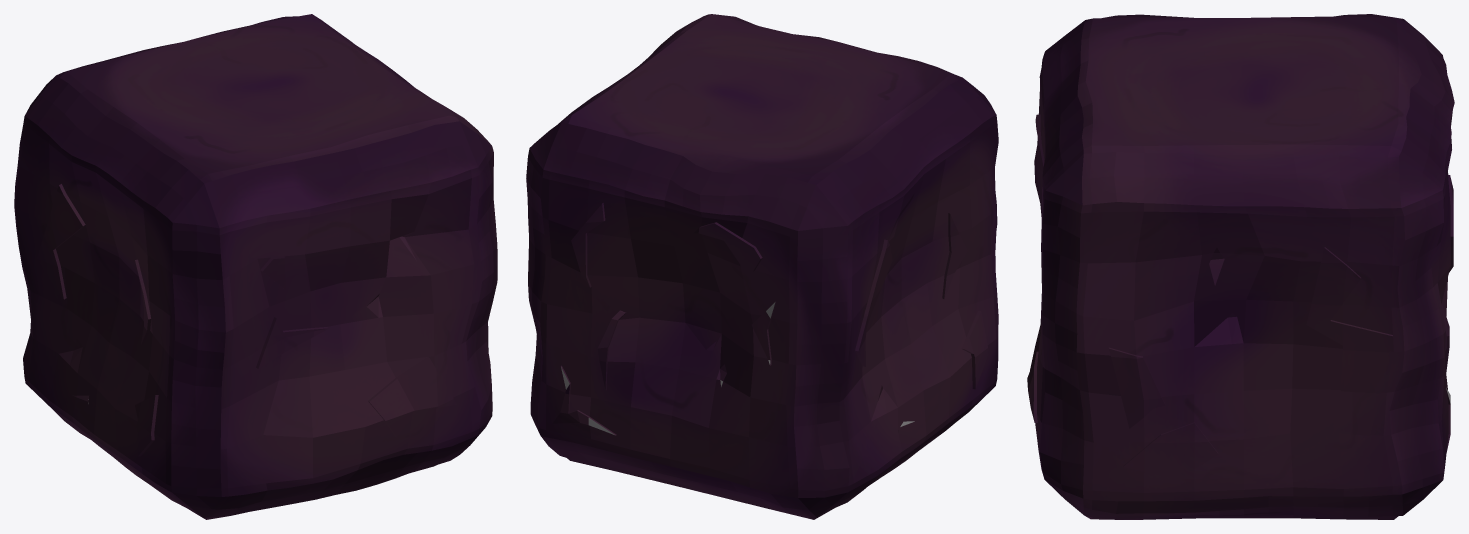
File: boulder.fbx
3 renders of one model, left to right at view 1: azimuth 30°, elevation 25°; view 2: azimuth 150°, elevation 25°; view 3: azimuth 270°, elevation 25°, orthographic. The views are drawn at different scales.
Visible parts, largest first — view 1: Cube; view 2: Cube; view 3: Cube.
Boxes of the visible parts, x1,y1,x2,y2 form: Cube: [14, 14, 497, 519]; Cube: [526, 14, 998, 519]; Cube: [1027, 14, 1454, 519].
Bounding box in the file's own units: 423 × 416 × 432.
